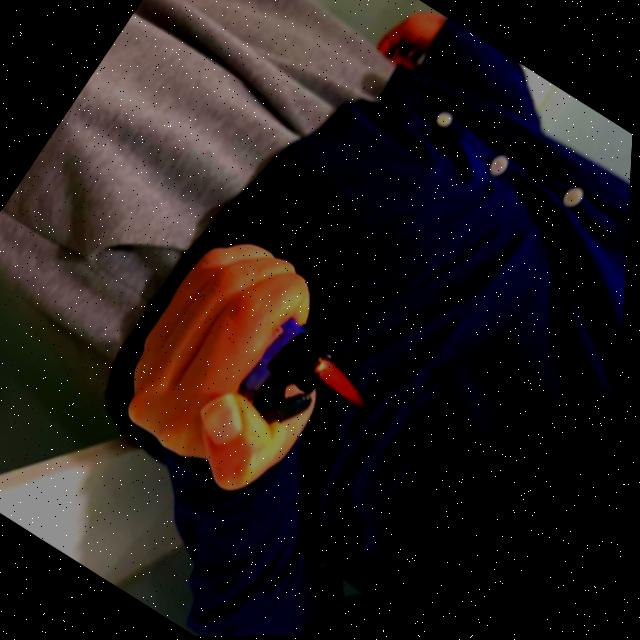Fire: (306, 354, 390, 422)
